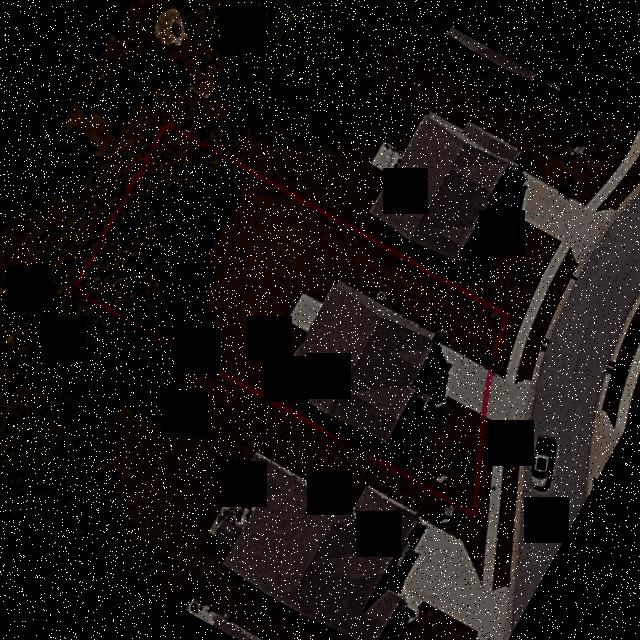Driveway: (439, 345, 487, 414)
Extra Driveway: (486, 374, 531, 446)
Extra Lawn: (479, 420, 498, 514), (501, 432, 518, 532), (495, 316, 522, 377), (518, 331, 541, 380)
Extra Sidewalk: (485, 425, 508, 525), (504, 323, 530, 382)
House: (280, 282, 434, 442)
Other: (435, 474, 448, 484), (376, 291, 387, 302)
Sidewalk: (417, 347, 448, 399), (287, 293, 323, 333)
